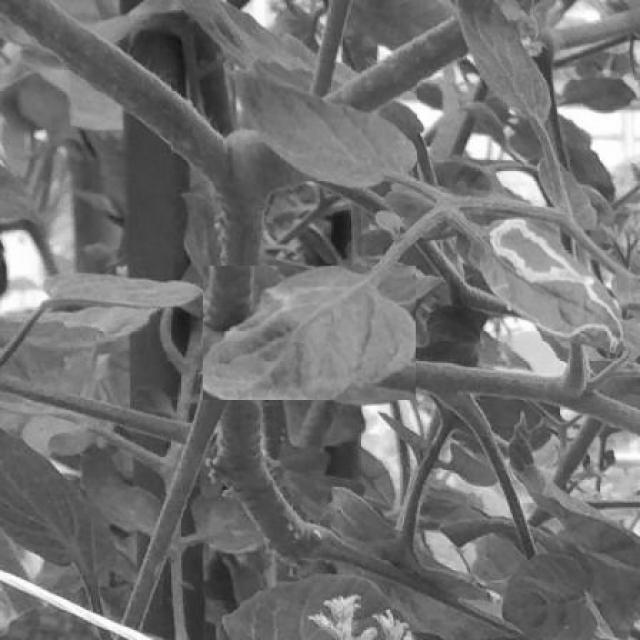Early Blight: (203, 266, 416, 400)
Healthy: (222, 63, 418, 191)
Leaf Miner: (462, 207, 629, 359)
